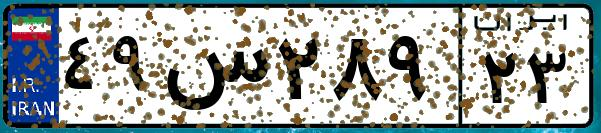2: (270, 28, 330, 110), (475, 38, 525, 113)
3: (525, 38, 570, 115)
4: (57, 26, 110, 100)
8: (330, 28, 385, 110)
9: (385, 28, 445, 110), (110, 28, 158, 98)
س: (158, 20, 270, 120)
